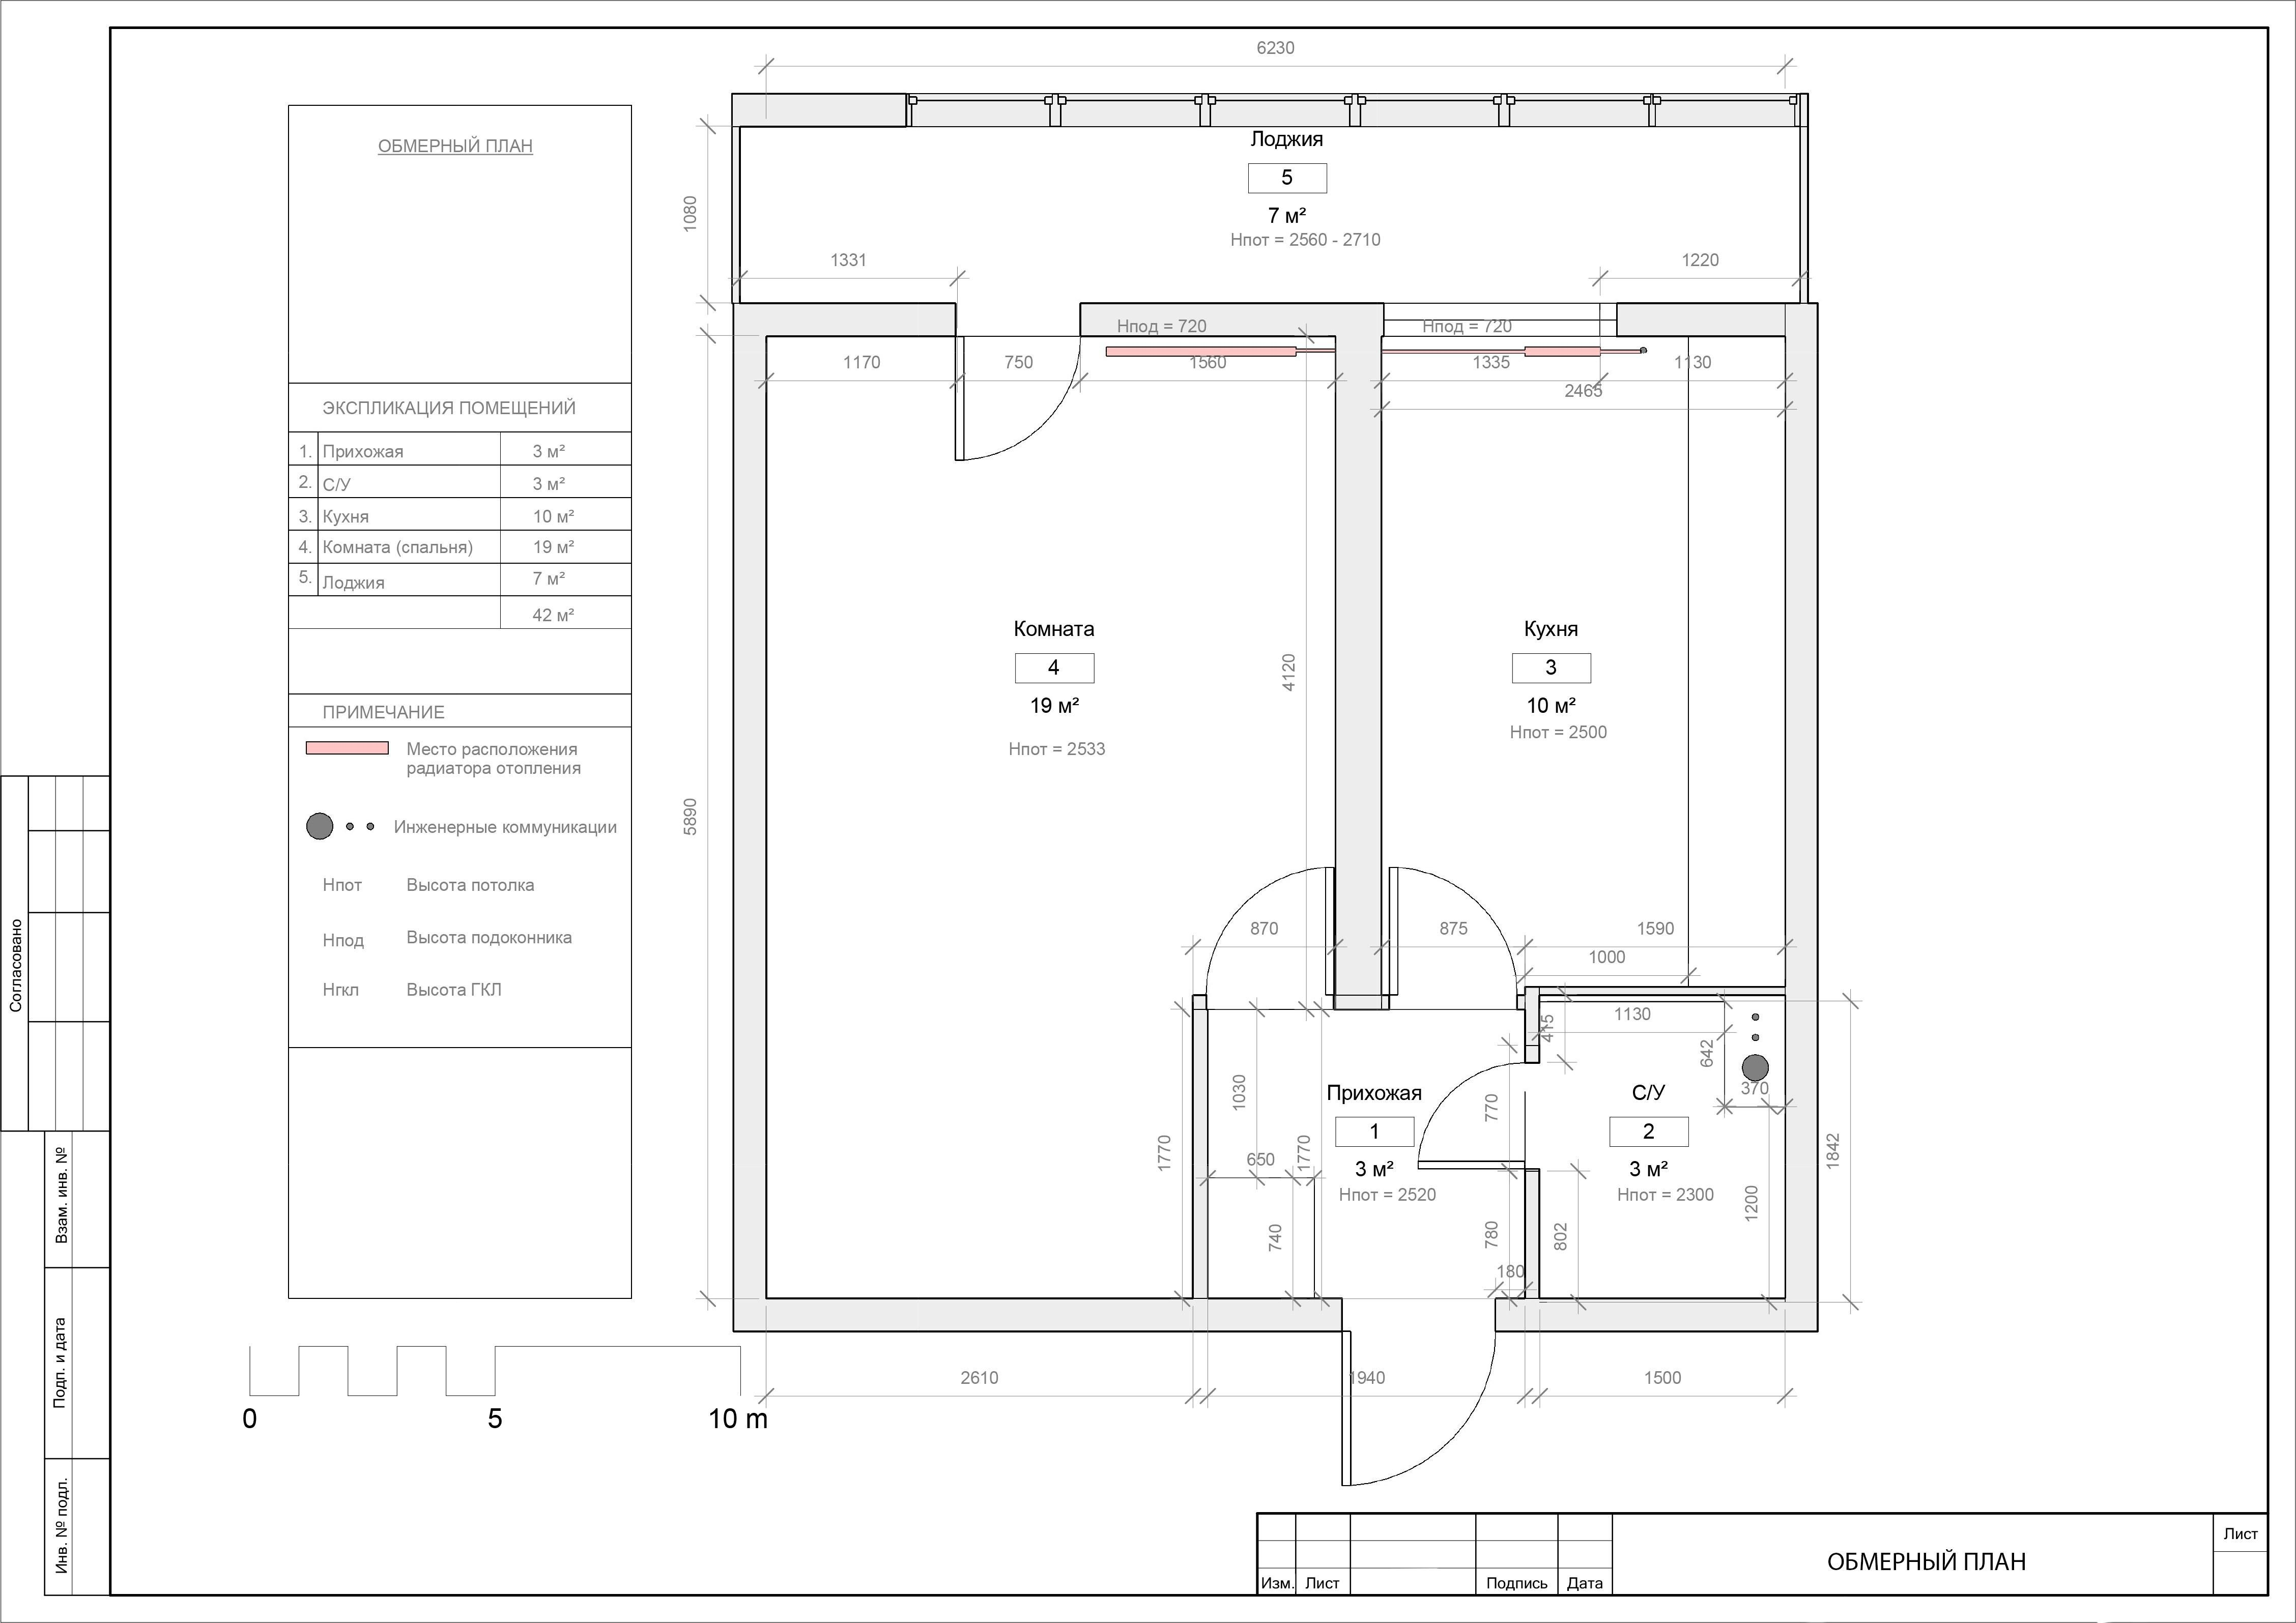balcony: (741, 127, 1803, 303)
bathroom: (1540, 995, 1786, 1300)
bedroom: (765, 338, 1334, 1298)
hallway: (1206, 1011, 1527, 1295)
kitchen: (1382, 338, 1786, 989)
